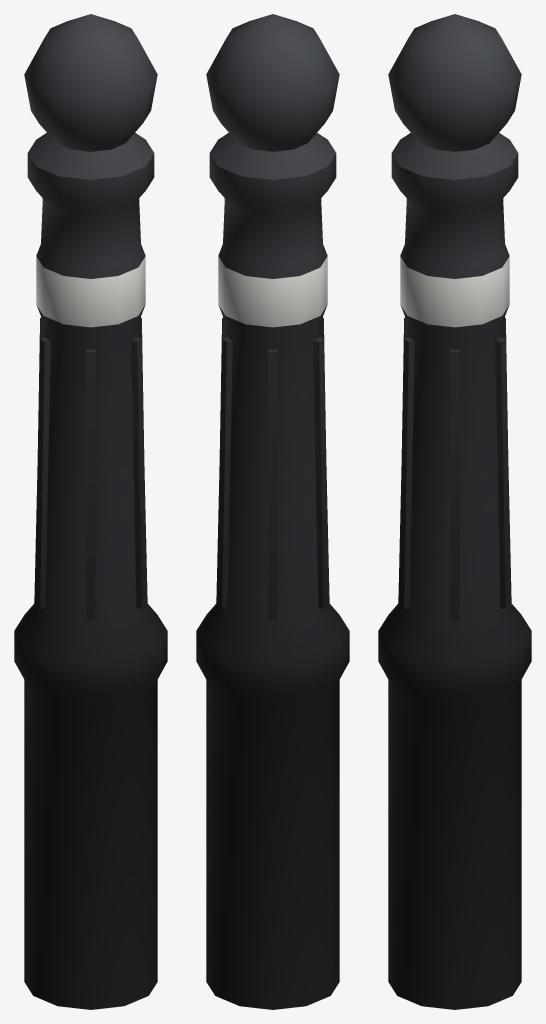
File: Bollard.fbx
3 renders of one model, left to right at view 1: azimuth 30°, elevation 25°; view 2: azimuth 150°, elevation 25°; view 3: azimuth 270°, elevation 25°, orthographic.
Parts seen in each view (by area): view 1: Bollard_LOD0; view 2: Bollard_LOD0; view 3: Bollard_LOD0.
Boxes of the visible parts, x1=… form: Bollard_LOD0: x1=14, y1=14, x2=167, y2=1009; Bollard_LOD0: x1=196, y1=14, x2=349, y2=1009; Bollard_LOD0: x1=378, y1=14, x2=531, y2=1009.
Size of what is drawn, in the model's own units: 0.23 by 1.6 by 0.23.
Materials: 1 (1 with a texture image).
